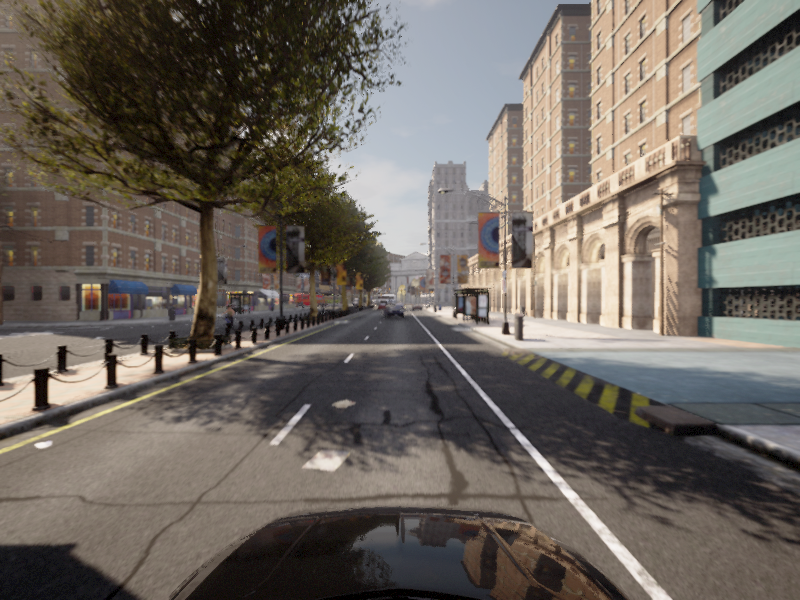vehicle: (187, 304, 215, 325), (217, 305, 239, 330), (382, 305, 404, 318)
